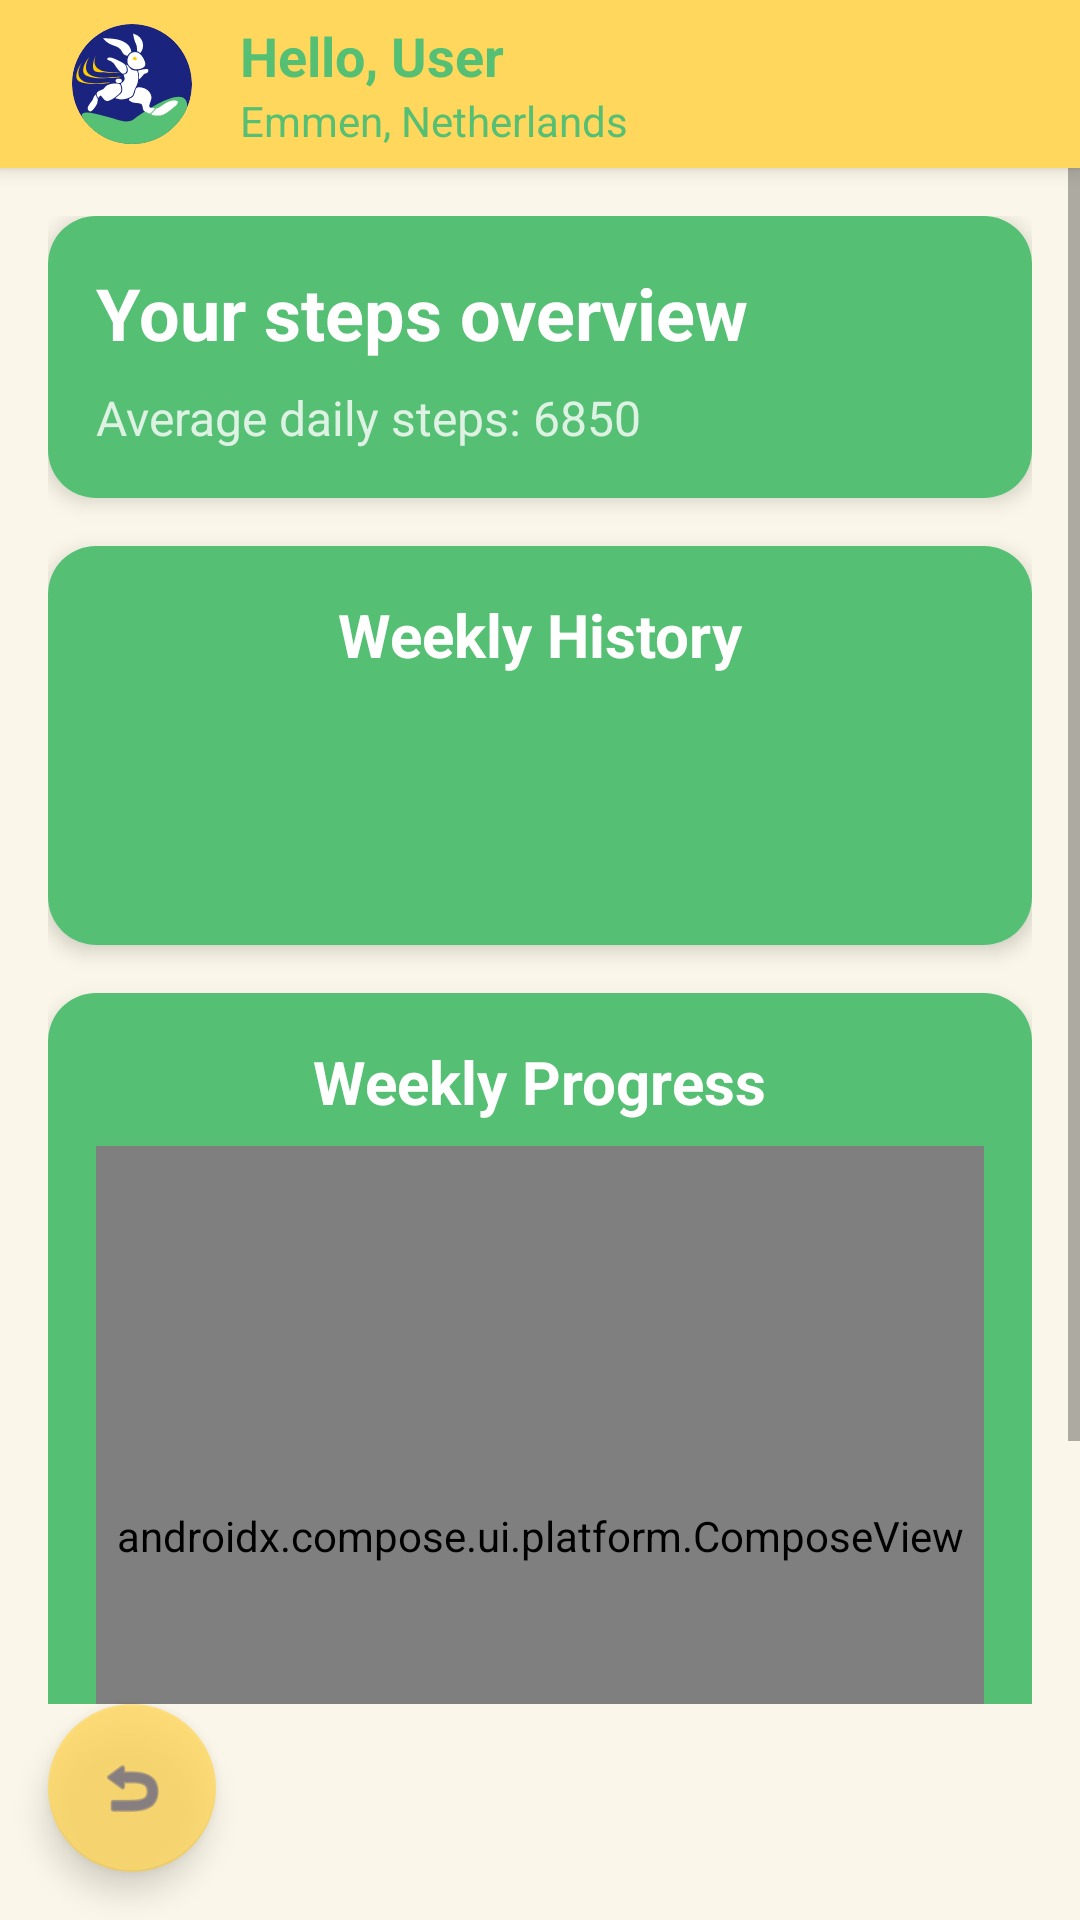

Point at icon controls on the screen. Image size 1080×1920, points as (x=x, y=y).
Go back to home: (x=132, y=1788)
